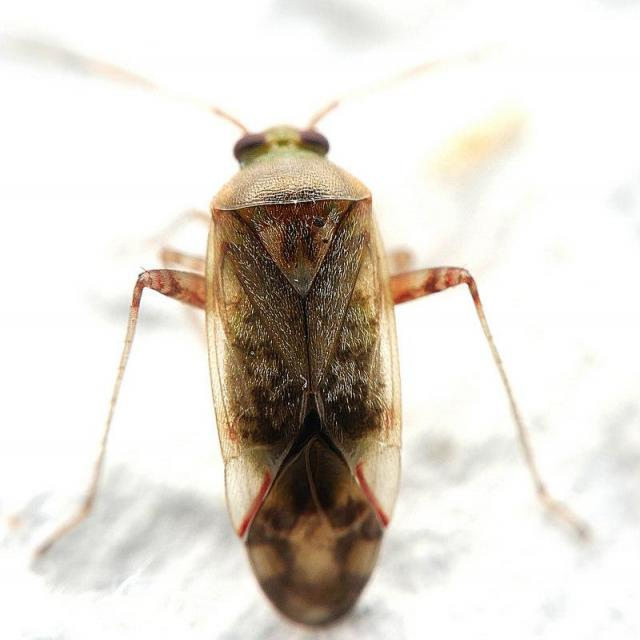Miridae-Adult-: (37, 40, 574, 627)
